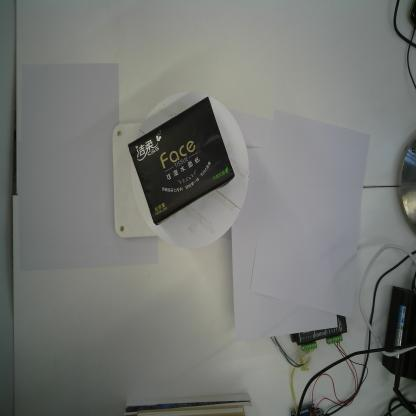Tissue: (127, 92, 236, 229)
